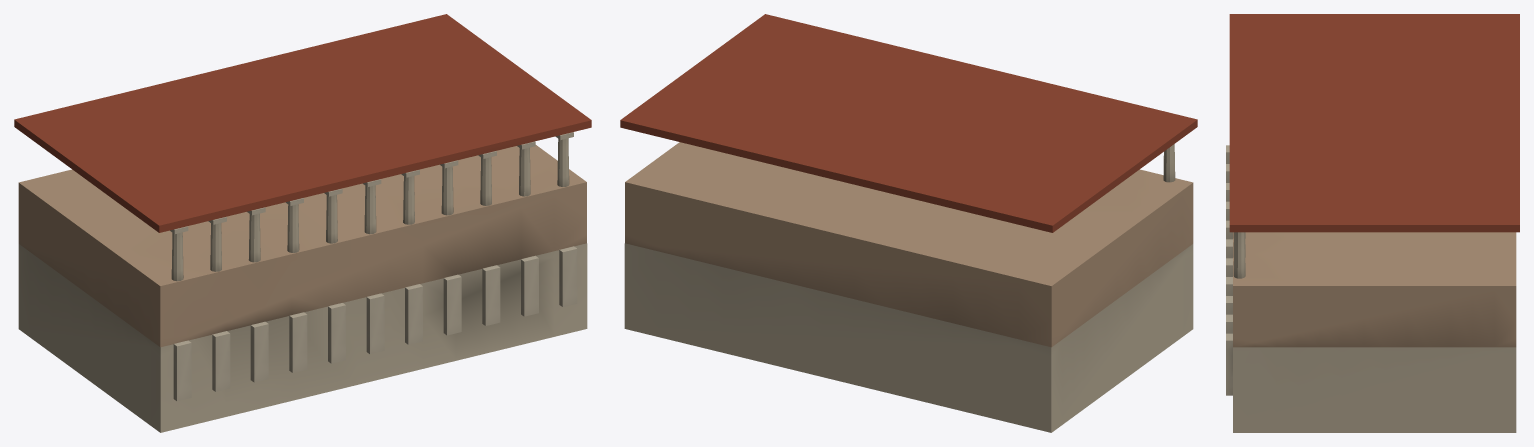
File: tabularium.glb
The picture shows the model from 3 angles, left to right: view 1: azimuth 30°, elevation 25°; view 2: azimuth 150°, elevation 25°; view 3: azimuth 270°, elevation 25°; orthographic projection.
Parts seen in each view (by area): view 1: p2_roof, p1_upper, p0_substructure; view 2: p2_roof, p1_upper, p0_substructure; view 3: p2_roof, p1_upper, p0_substructure.
Part boxes in pixels (x1=…): p2_roof: x1=14, y1=14, x2=591, y2=232; p1_upper: x1=18, y1=132, x2=586, y2=347; p0_substructure: x1=18, y1=243, x2=587, y2=432; p2_roof: x1=620, y1=14, x2=1197, y2=232; p1_upper: x1=625, y1=142, x2=1193, y2=347; p0_substructure: x1=624, y1=243, x2=1193, y2=432; p2_roof: x1=1229, y1=14, x2=1519, y2=232; p1_upper: x1=1233, y1=232, x2=1516, y2=347; p0_substructure: x1=1226, y1=145, x2=1516, y2=432.
Size of the model in its own units: 74 by 34.2 by 43.5.
